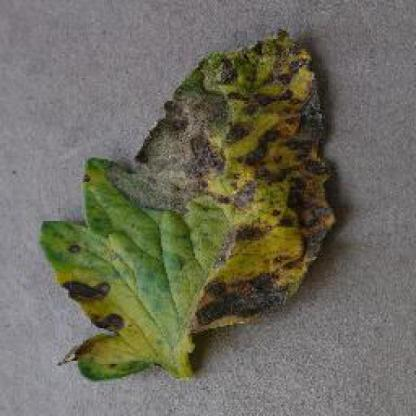Tomato_Blight: (41, 30, 334, 378)
